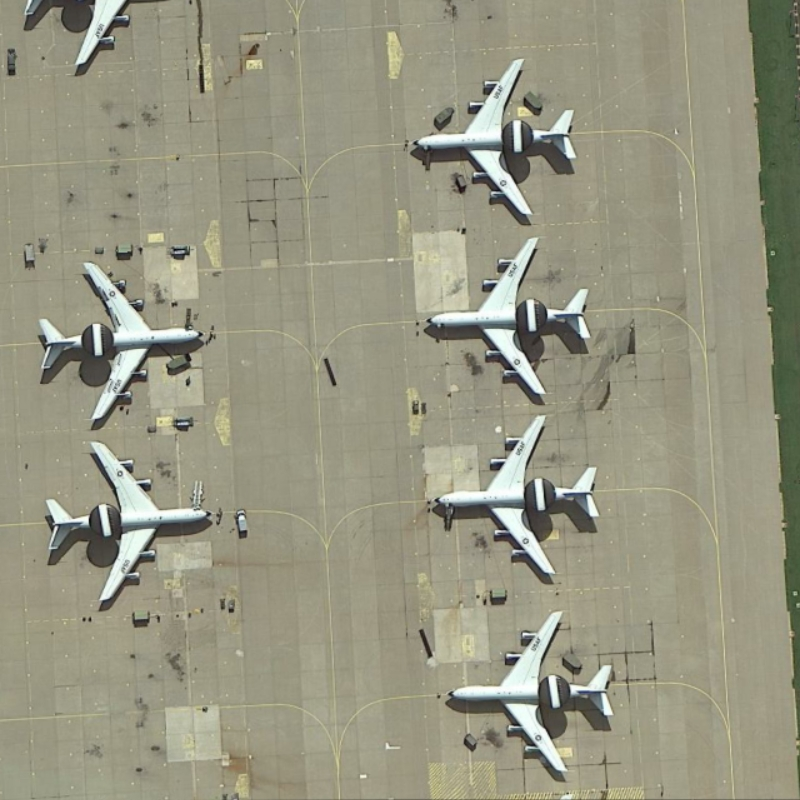A7: (404, 51, 587, 227), (445, 603, 623, 782), (428, 406, 610, 581), (37, 431, 219, 600), (31, 256, 214, 424), (423, 229, 593, 408)
